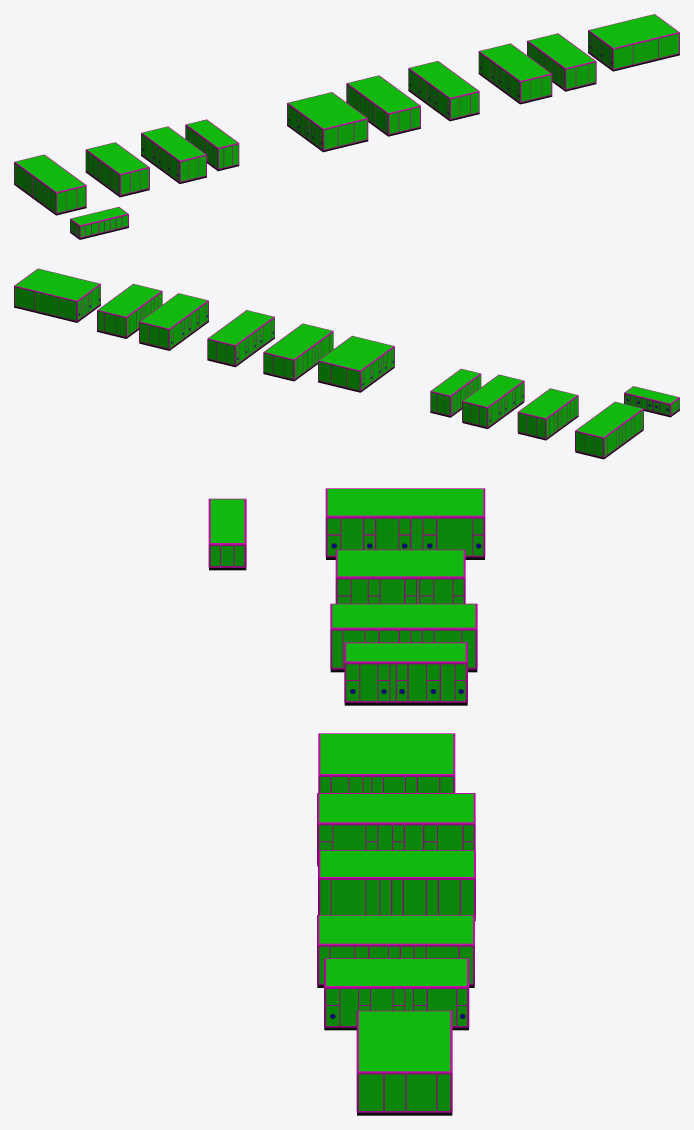
Rendered from 4F_AHU.fbx.
3 renders of one model, top to bottom at view 1: azimuth 30°, elevation 25°; view 2: azimuth 150°, elevation 25°; view 3: azimuth 270°, elevation 25°, orthographic. The views are drawn at different scales.
Parts seen in each view (by area): view 1: AHU-002, AHU-007, AHU-004, AHU-006, AHU-011, AHU-005, AHU-003, AHU-009, AHU-010, AHU-008, AHU-012; view 2: AHU-002, AHU-007, AHU-004, AHU-006, AHU-011, AHU-005, AHU-009, AHU-003, AHU-010, AHU-008, AHU-012; view 3: AHU-011, AHU-002, AHU-005, AHU-006, AHU-003, AHU-007, AHU-008, AHU-004, AHU-010, AHU-009, AHU-012.
Part boxes in pixels (box(x1,y1,x2,y2)): AHU-002: box(588, 14, 679, 71); AHU-007: box(287, 92, 368, 152); AHU-004: box(478, 43, 552, 104); AHU-006: box(346, 75, 420, 136); AHU-011: box(14, 154, 86, 215); AHU-005: box(408, 61, 479, 121); AHU-003: box(527, 33, 596, 91); AHU-009: box(141, 126, 206, 183); AHU-010: box(85, 142, 149, 197); AHU-008: box(185, 119, 239, 171); AHU-012: box(70, 207, 128, 239); AHU-002: box(14, 268, 100, 322); AHU-007: box(318, 335, 394, 392); AHU-004: box(139, 293, 208, 350); AHU-006: box(263, 323, 333, 381); AHU-011: box(575, 401, 643, 459); AHU-005: box(207, 310, 274, 367); AHU-009: box(462, 374, 524, 429); AHU-003: box(97, 283, 162, 338); AHU-010: box(517, 388, 578, 440); AHU-008: box(430, 368, 481, 417); AHU-012: box(624, 386, 679, 417); AHU-011: box(325, 488, 485, 559); AHU-002: box(356, 1010, 452, 1115); AHU-005: box(318, 850, 475, 921); AHU-006: box(317, 793, 475, 866); AHU-003: box(324, 958, 469, 1030); AHU-007: box(318, 733, 455, 792); AHU-008: box(344, 642, 467, 705); AHU-004: box(317, 915, 474, 987); AHU-010: box(335, 549, 465, 603); AHU-009: box(330, 603, 477, 672); AHU-012: box(208, 498, 246, 570).
Bounding box in the file's own units: 64147 × 2205 × 12709.
